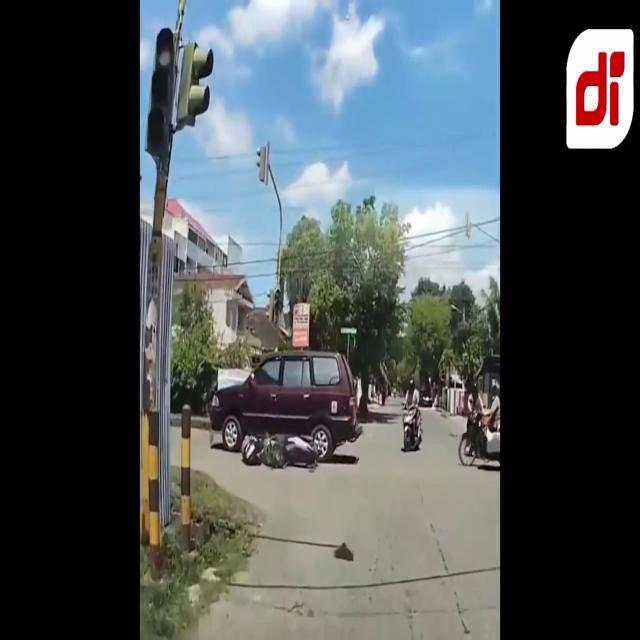multiple_accident: (186, 329, 382, 486)
normal: (397, 367, 440, 469)
